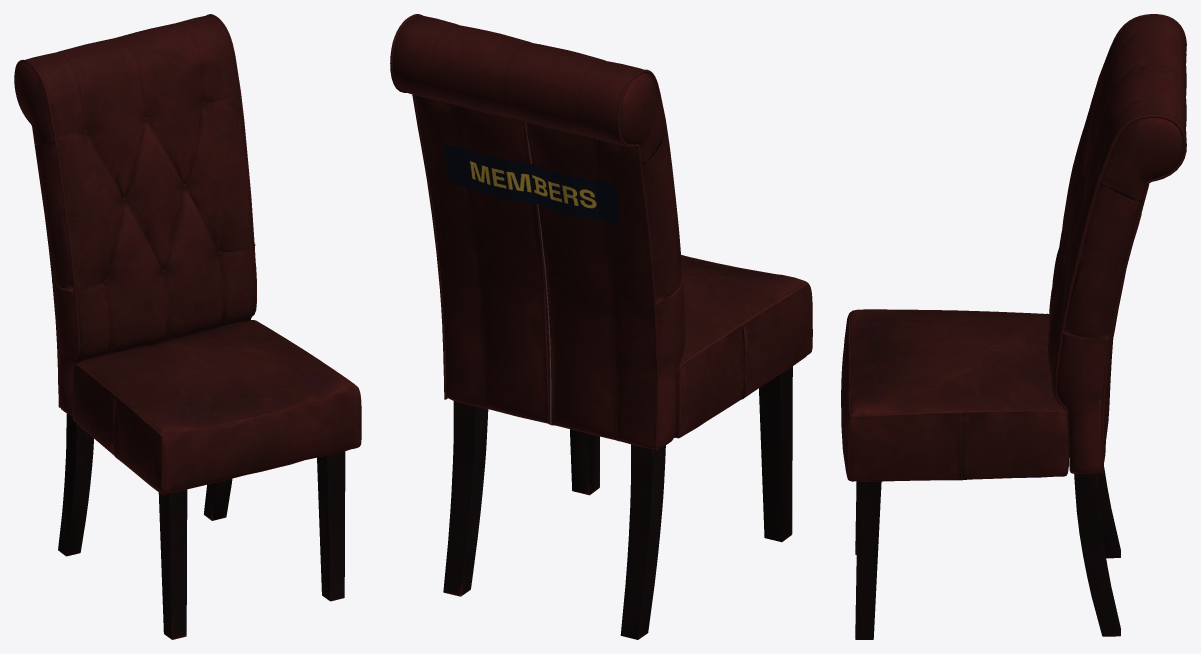
Rendered from nyb_bronx_chair.glb.
3 renders of one model, left to right at view 1: azimuth 30°, elevation 25°; view 2: azimuth 150°, elevation 25°; view 3: azimuth 270°, elevation 25°, orthographic. The views are drawn at different scales.
Parts seen in each view (by area): view 1: dining_chair_02; view 2: dining_chair_02, stk_lbl_5c5cdd7555.png; view 3: dining_chair_02.
Boxes of the visible parts, <box> form: dining_chair_02: <box>14,14,361,639</box>; dining_chair_02: <box>390,14,812,639</box>; stk_lbl_5c5cdd7555.png: <box>443,143,620,225</box>; dining_chair_02: <box>841,14,1186,639</box>.
Bounding box in the file's own units: 0.4336 × 0.9734 × 0.5764.
2 materials, 2 textured.
